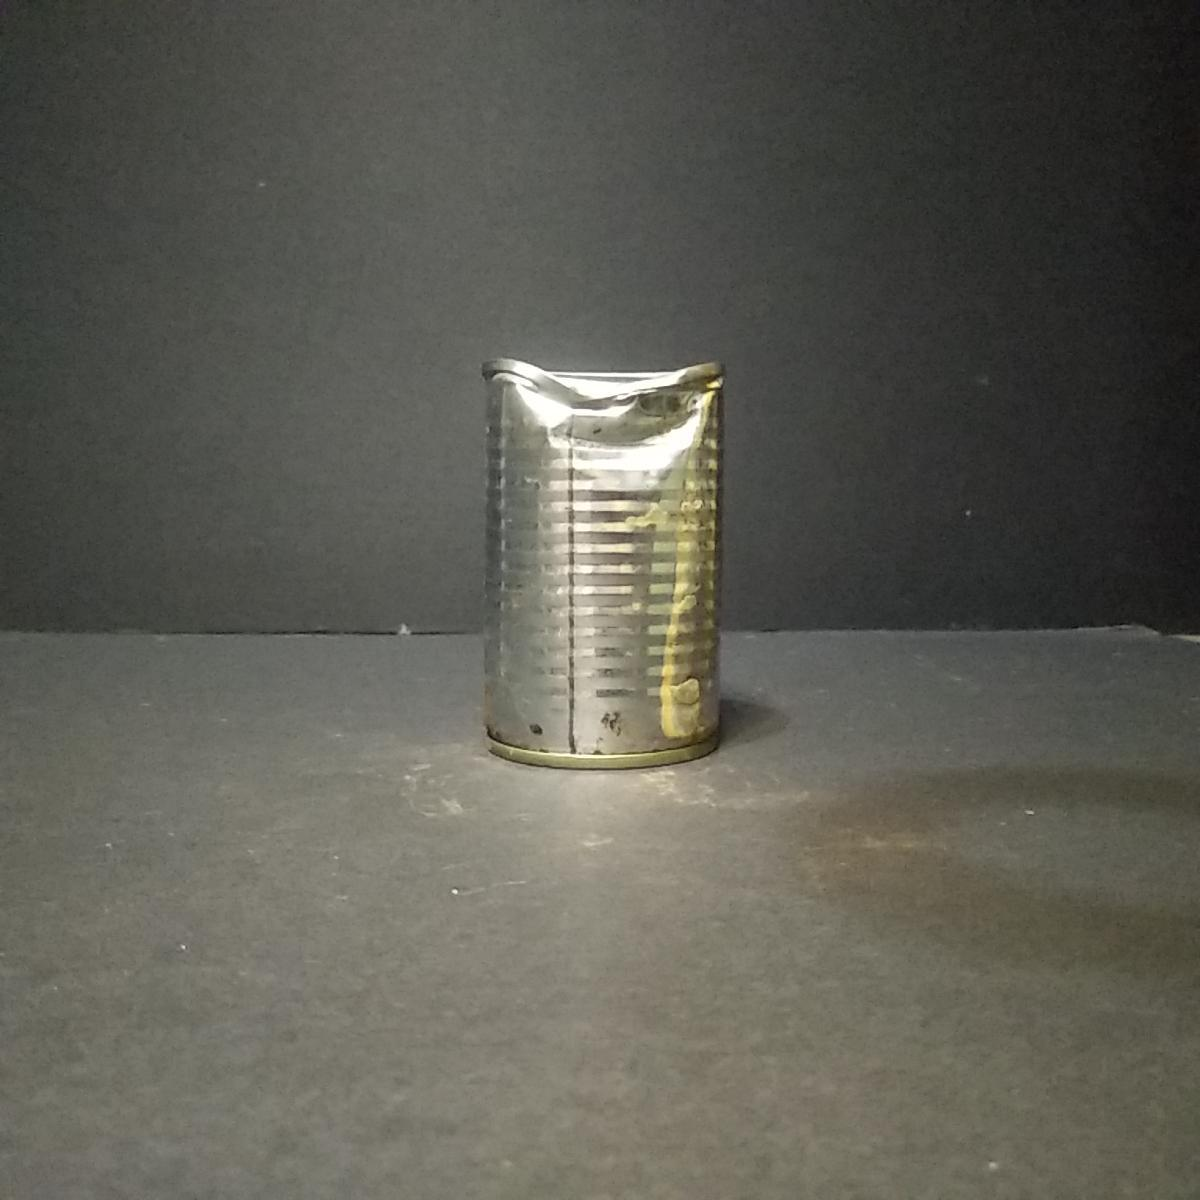Dented: (476, 334, 740, 774)
